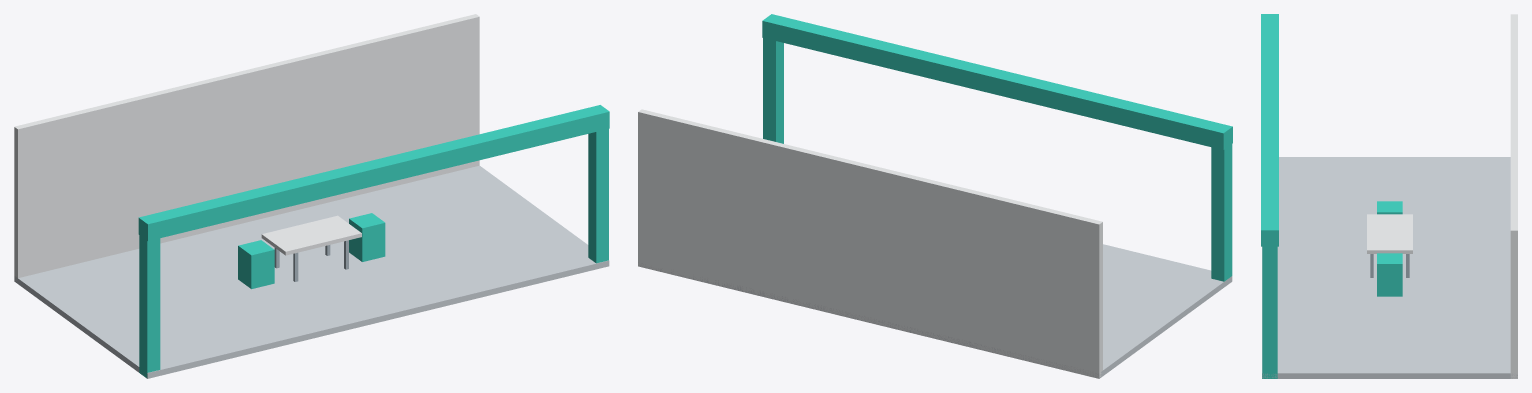
The picture shows the model from 3 angles, left to right: view 1: azimuth 30°, elevation 25°; view 2: azimuth 150°, elevation 25°; view 3: azimuth 270°, elevation 25°; orthographic projection. The views are drawn at different scales.
Visible parts, largest first — view 1: Exhibition Booth Concept; view 2: Exhibition Booth Concept; view 3: Exhibition Booth Concept.
Boxes of the visible parts, left/top/right/bottom form: Exhibition Booth Concept: left=14, top=14, right=609, bottom=378; Exhibition Booth Concept: left=638, top=14, right=1232, bottom=378; Exhibition Booth Concept: left=1261, top=14, right=1517, bottom=378.
Size of the model in its own units: 10 by 3.2 by 5.02.
